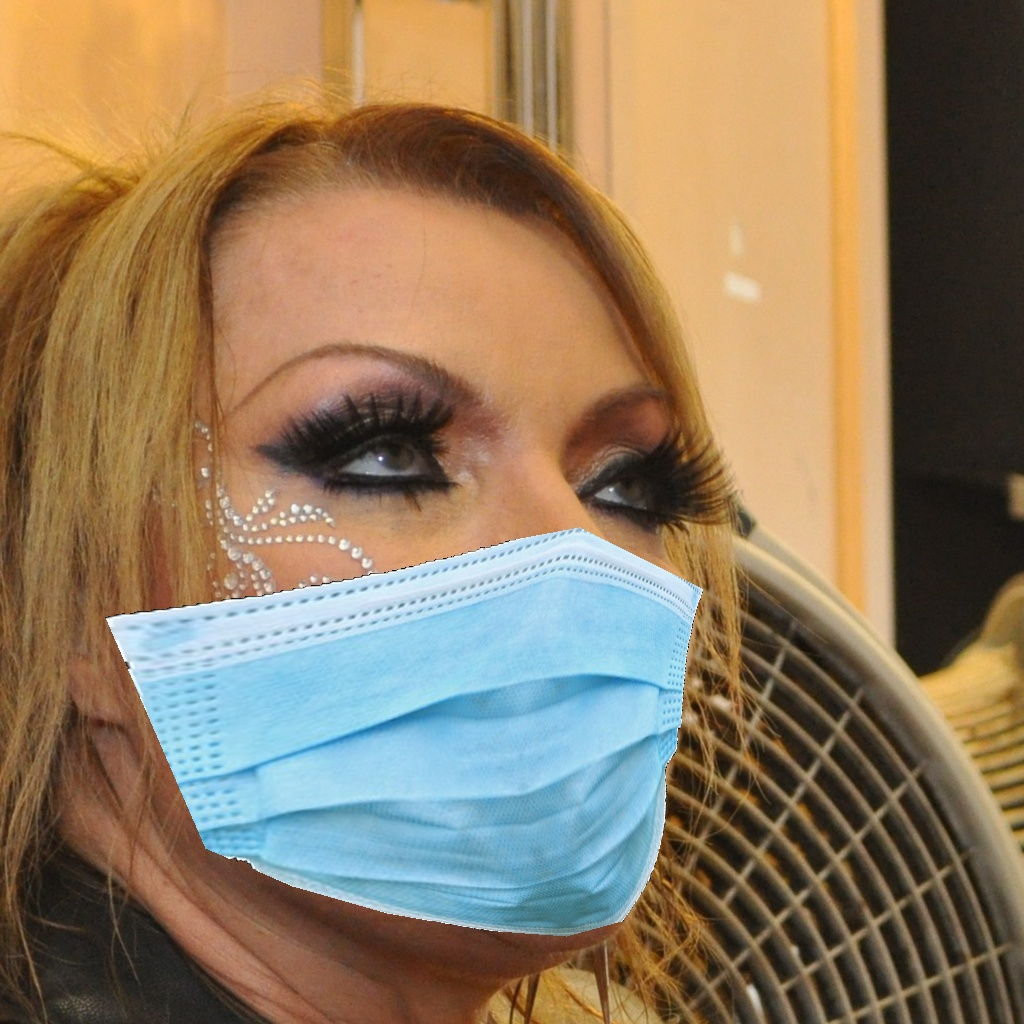Mask: (103, 335, 707, 942)
